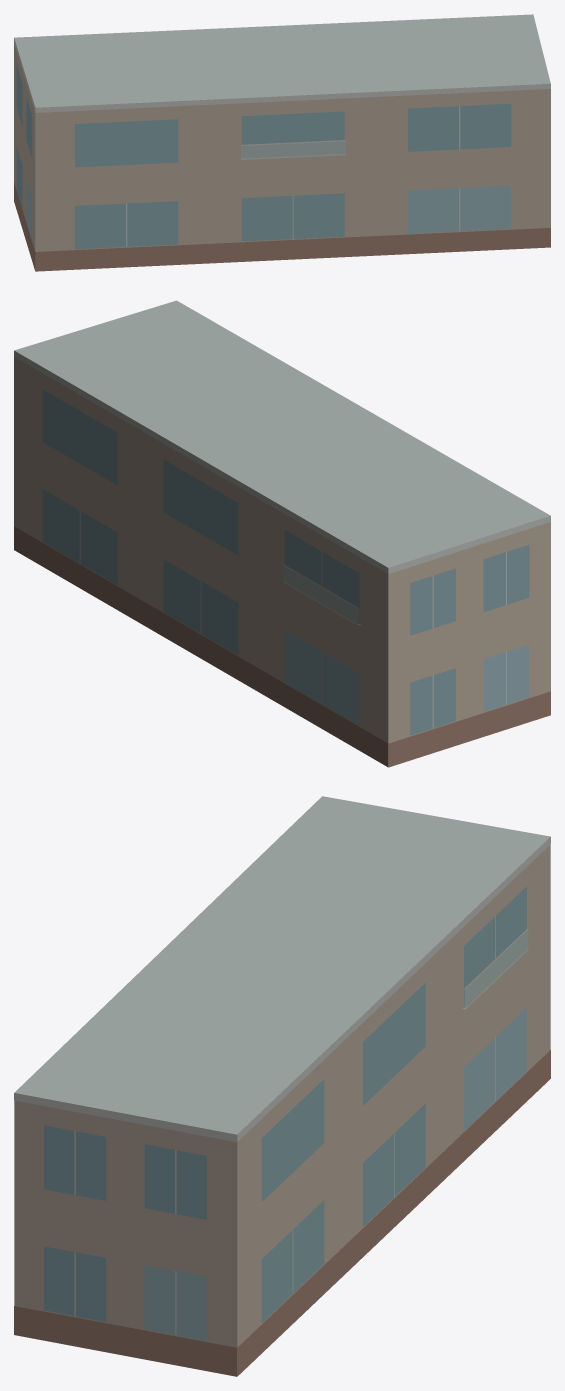
File: survey-upis-32669298.glb
The picture shows the model from 3 angles, top to bottom: view 1: azimuth 30°, elevation 25°; view 2: azimuth 150°, elevation 25°; view 3: azimuth 270°, elevation 25°; orthographic projection. The views are drawn at different scales.
Parts seen in each view (by area): view 1: survey-upis-32669298.tmp; view 2: survey-upis-32669298.tmp; view 3: survey-upis-32669298.tmp.
Boxes of the visible parts, x1,y1,x2,y2 form: survey-upis-32669298.tmp: (14, 14, 550, 271); survey-upis-32669298.tmp: (14, 300, 550, 767); survey-upis-32669298.tmp: (14, 796, 550, 1376).
Bounding box in the file's own units: 23.4 × 7.8 × 15.68.
